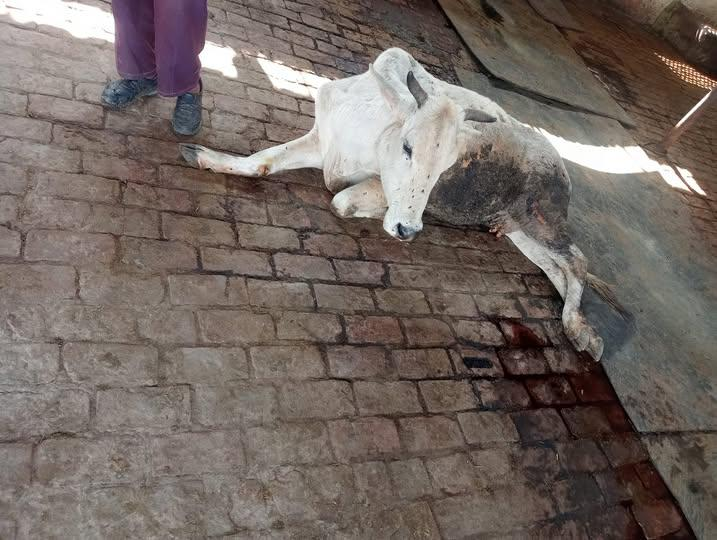fracture: (173, 77, 321, 241)
